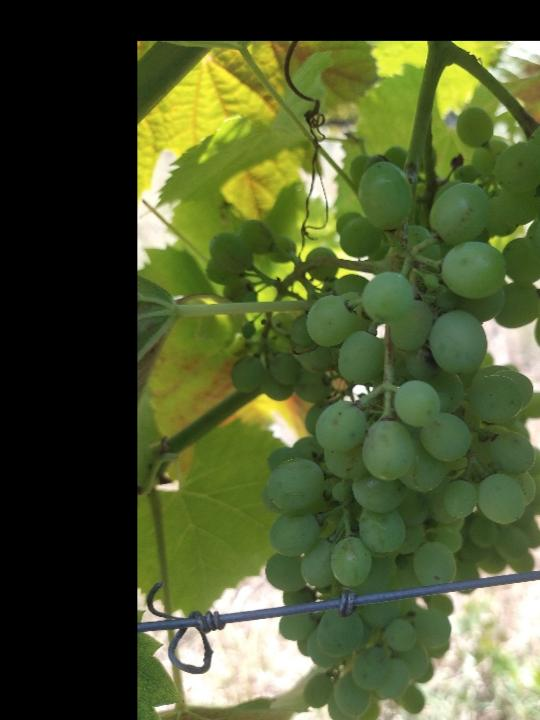grape: (199, 101, 540, 720)
